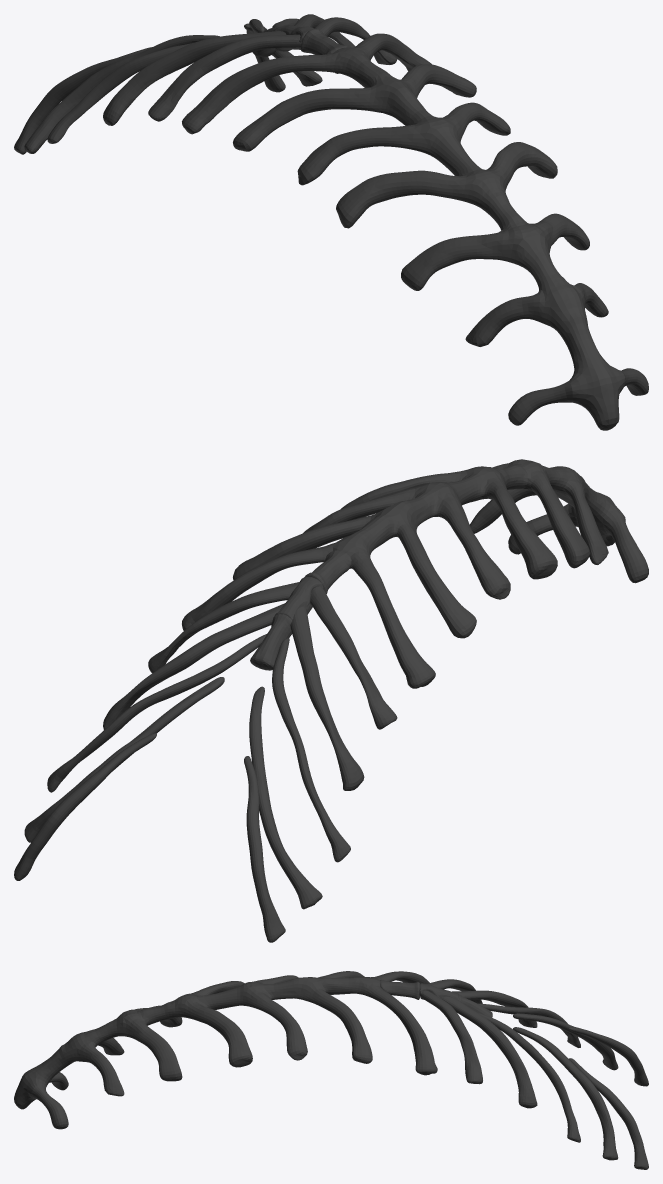
File: Costal_cartilages_1.glb
3 renders of one model, top to bottom at view 1: azimuth 30°, elevation 25°; view 2: azimuth 150°, elevation 25°; view 3: azimuth 270°, elevation 25°, orthographic. The views are drawn at different scales.
Visible parts, largest first — view 1: Costal_cartilages_1; view 2: Costal_cartilages_1; view 3: Costal_cartilages_1.
Part boxes in pixels (x1,y1,x2,y2): Costal_cartilages_1: [14, 14, 648, 430]; Costal_cartilages_1: [14, 459, 648, 942]; Costal_cartilages_1: [14, 971, 648, 1169].
Size of the model in its own units: 0.00355 by 0.0025 by 0.00961.
Materials: 1 (1 with a texture image).
